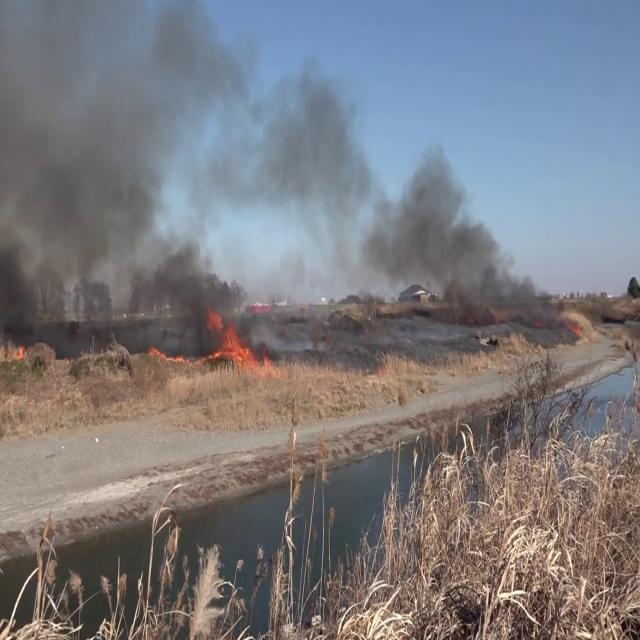Fire: (205, 314, 282, 376), (0, 328, 30, 366)
Smoke: (1, 15, 567, 341)
